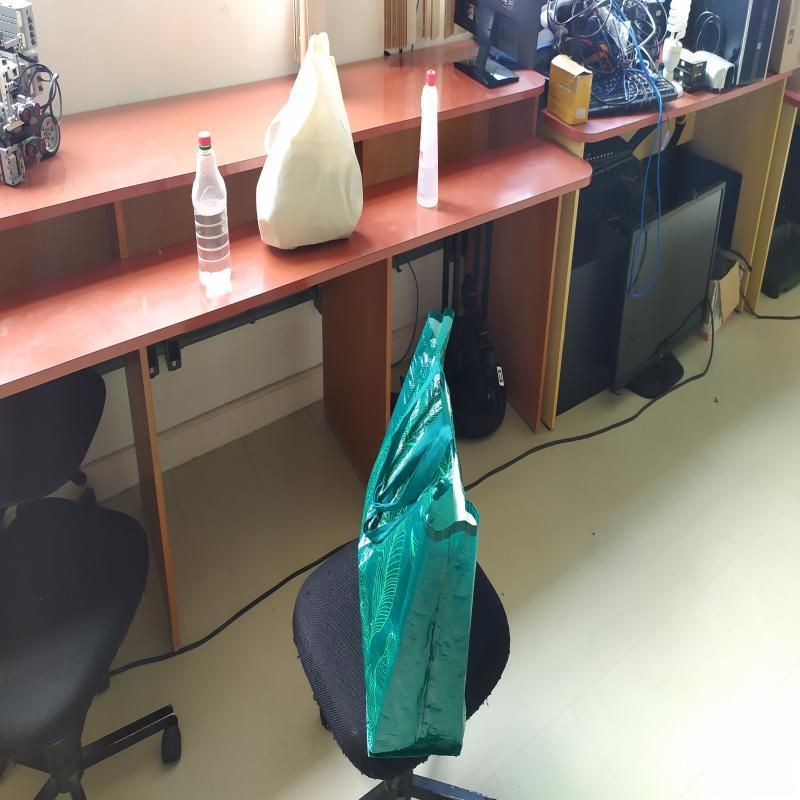Bag: (359, 304, 481, 759), (254, 28, 362, 262)
